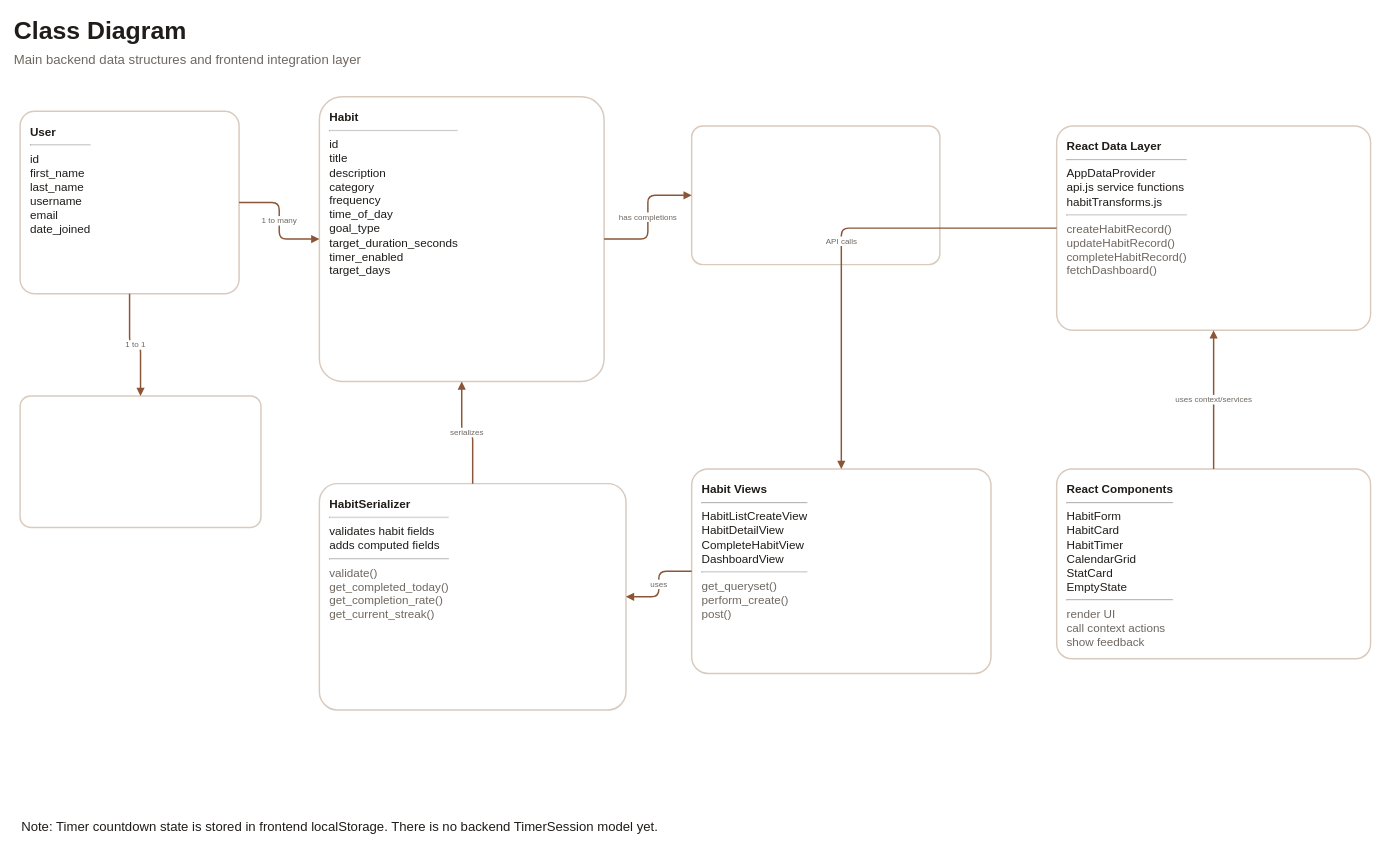
The diagram is 1383 pixels wide and 853 high, and some of its shapes have lost their labels. Here are the shapes that lost their labels. From the top down, the box of each, then its label:
(691, 125, 940, 265): HabitCompletion id completed_date habit_id
(19, 395, 261, 528): UserPreference reminder_enabled daily_notification_time dark_mode
